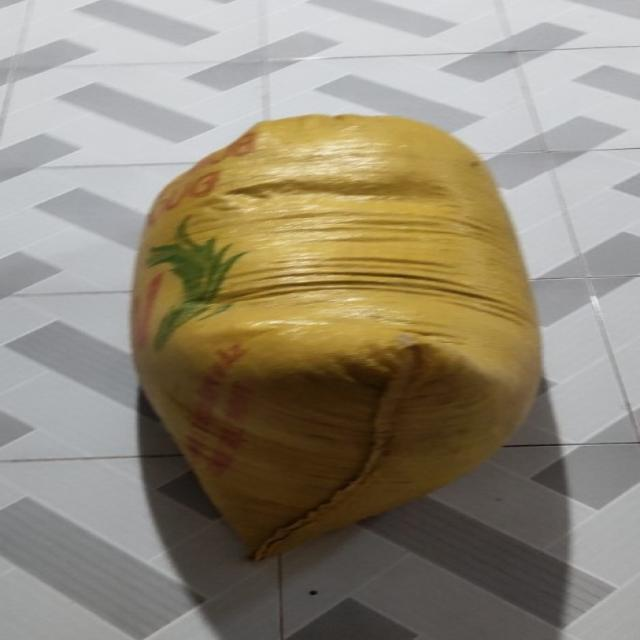gunny_bag: (132, 115, 541, 561)
